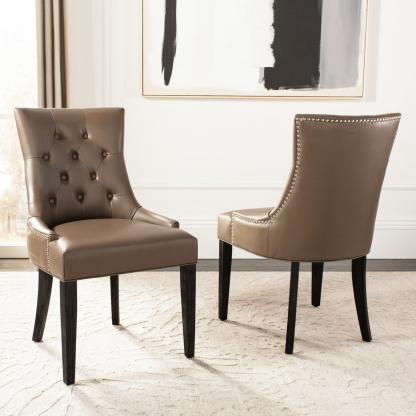chair: (0, 87, 206, 387), (217, 93, 412, 348)
